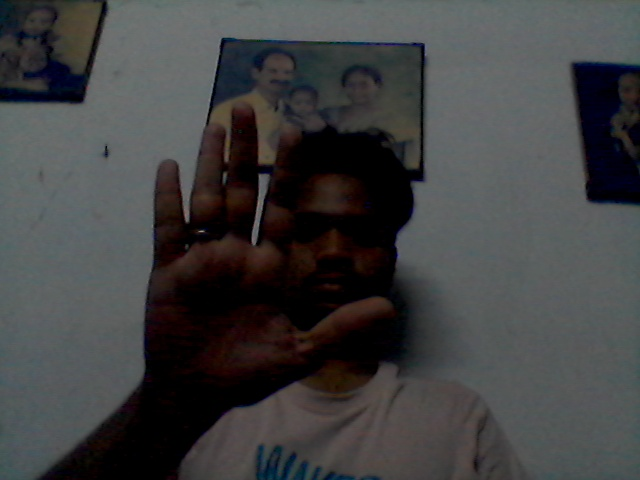Hi: (144, 102, 399, 434)
